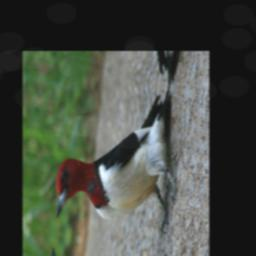Woodpecker: (50, 58, 190, 256)
